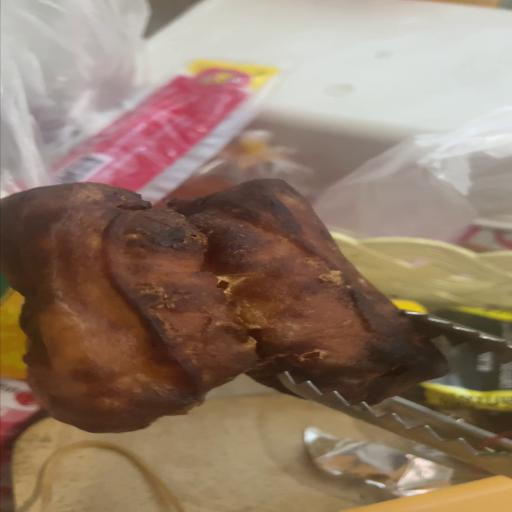street_burnt_defect: (0, 179, 445, 433)
